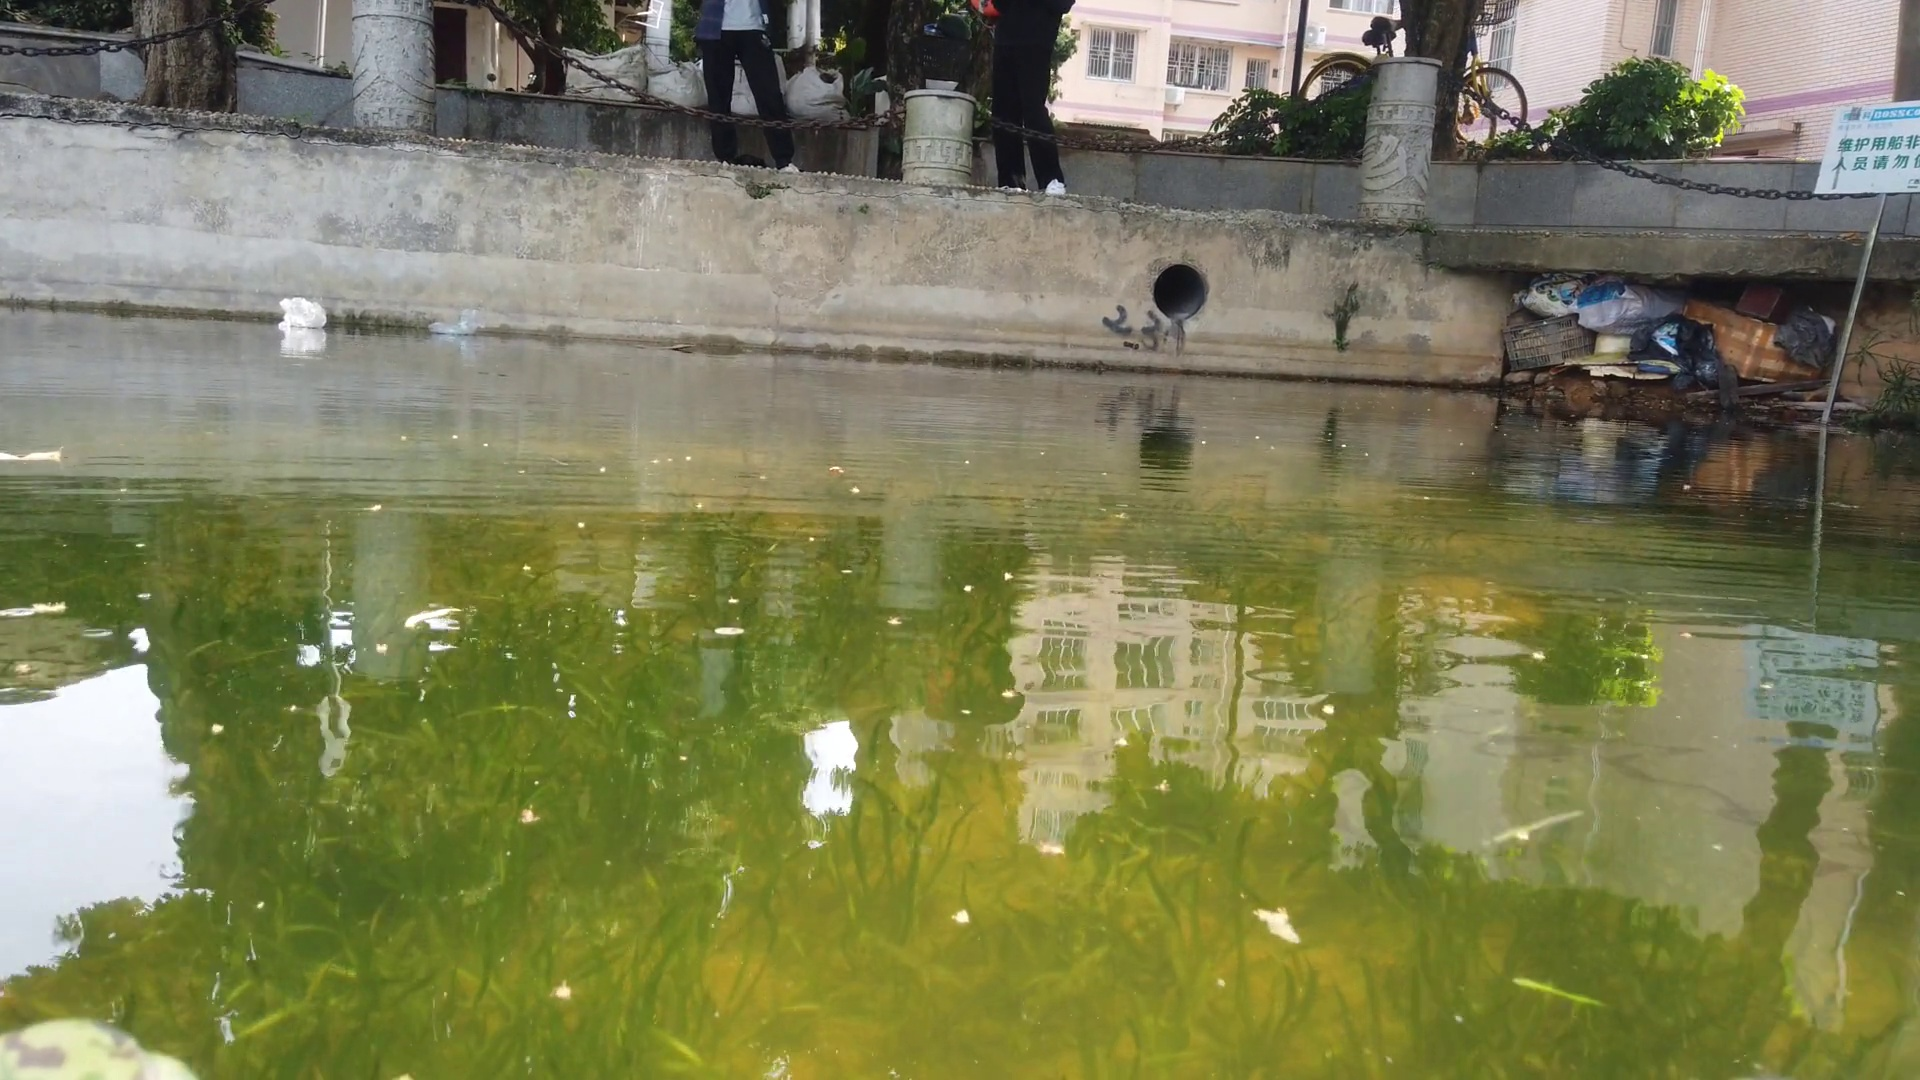paper: (633, 335, 695, 355)
plastic: (277, 297, 327, 327), (429, 309, 481, 334)
